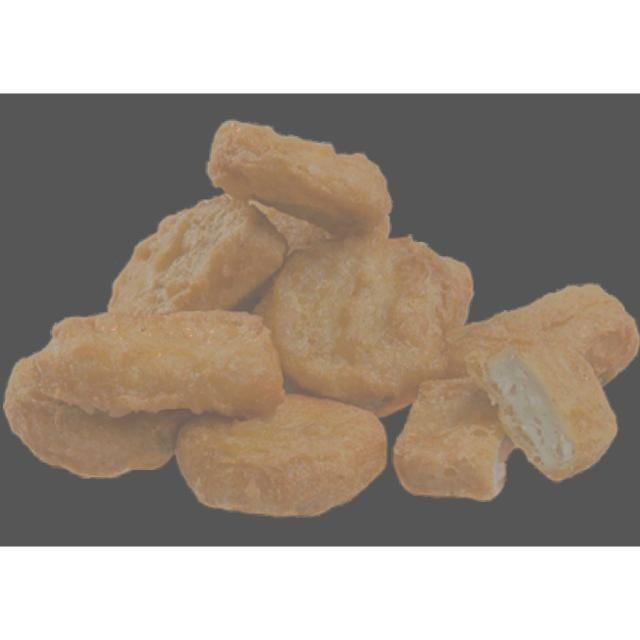chicken_nuggets: (256, 218, 457, 410), (182, 373, 383, 543), (46, 292, 286, 426), (197, 111, 407, 258), (398, 352, 530, 536), (484, 329, 622, 491)
